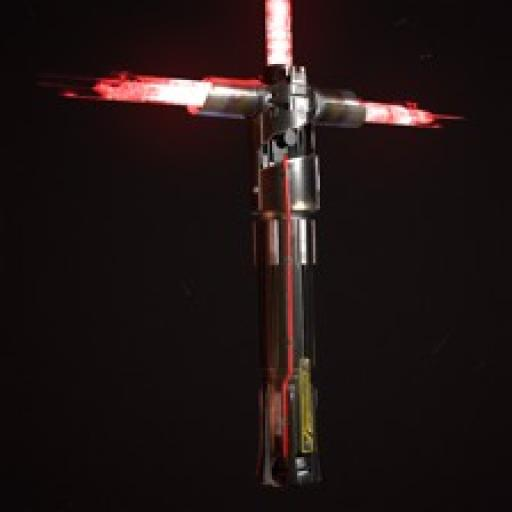sith saber: (51, 1, 474, 492)
